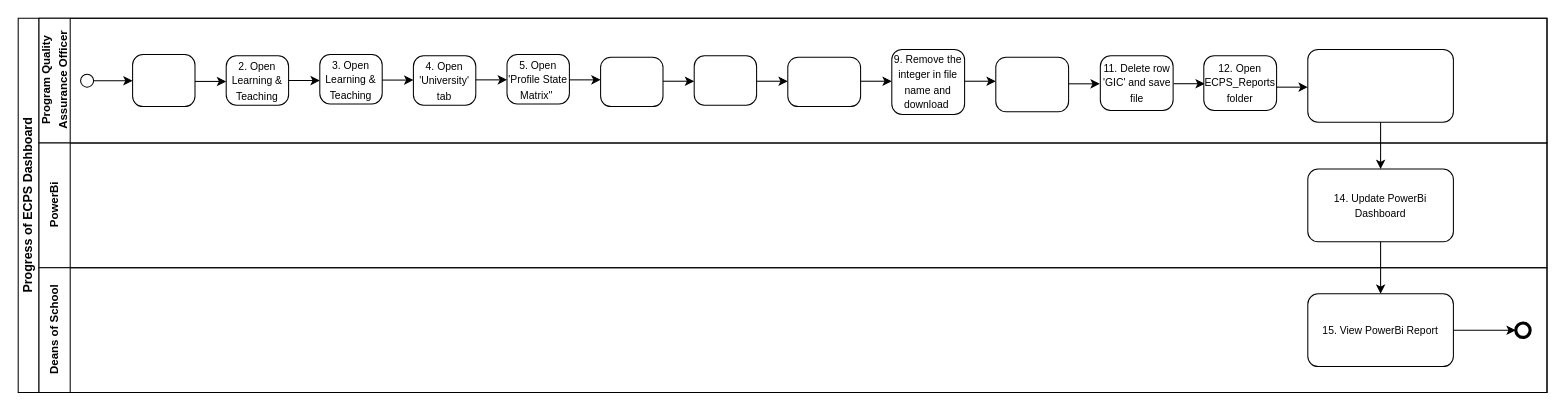
The diagram is 1565 pixels wide and 411 high, and some of its shapes have lost their labels. The centre of each missing label's shape, as x and y in pixels:
"1. Open Staff Portal" goes at point 163,80.
"10. Click 'Yes' to replace existing file" goes at point 1032,84.
"13. Click 'Upload' and select ECPSProfileStateMatrix.csv file. Replace old file" goes at point 1380,85.
"6. Select applicable trimester" goes at point 631,81.
"7. Click 'Select'" goes at point 725,80.
"8. Click 'View this report in Excel'" goes at point 824,81.
